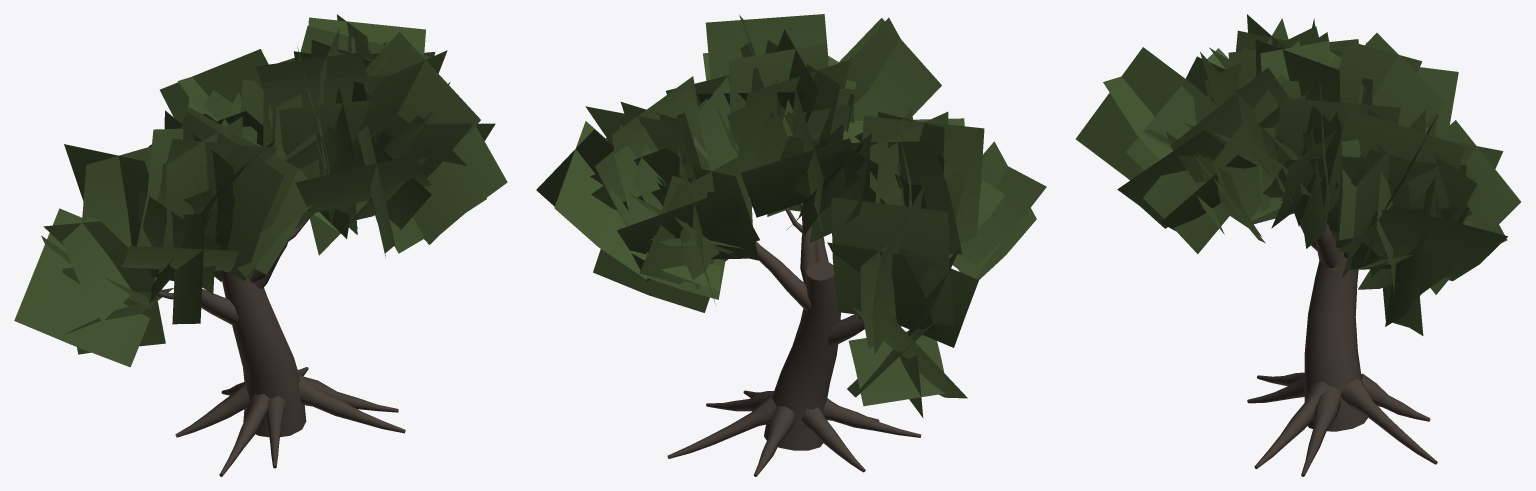
The model's file is tree_oak_twisted.glb.
3 renders of one model, left to right at view 1: azimuth 30°, elevation 25°; view 2: azimuth 150°, elevation 25°; view 3: azimuth 270°, elevation 25°, orthographic. The views are drawn at different scales.
Visible parts, largest first — view 1: tree_oak_twisted; view 2: tree_oak_twisted; view 3: tree_oak_twisted.
Boxes of the visible parts, x1,y1,x2,y2 form: tree_oak_twisted: (14, 14, 507, 476); tree_oak_twisted: (536, 14, 1046, 476); tree_oak_twisted: (1075, 14, 1520, 476).
Size of what is drawn, in the model's own units: 8.22 by 6.96 by 7.
